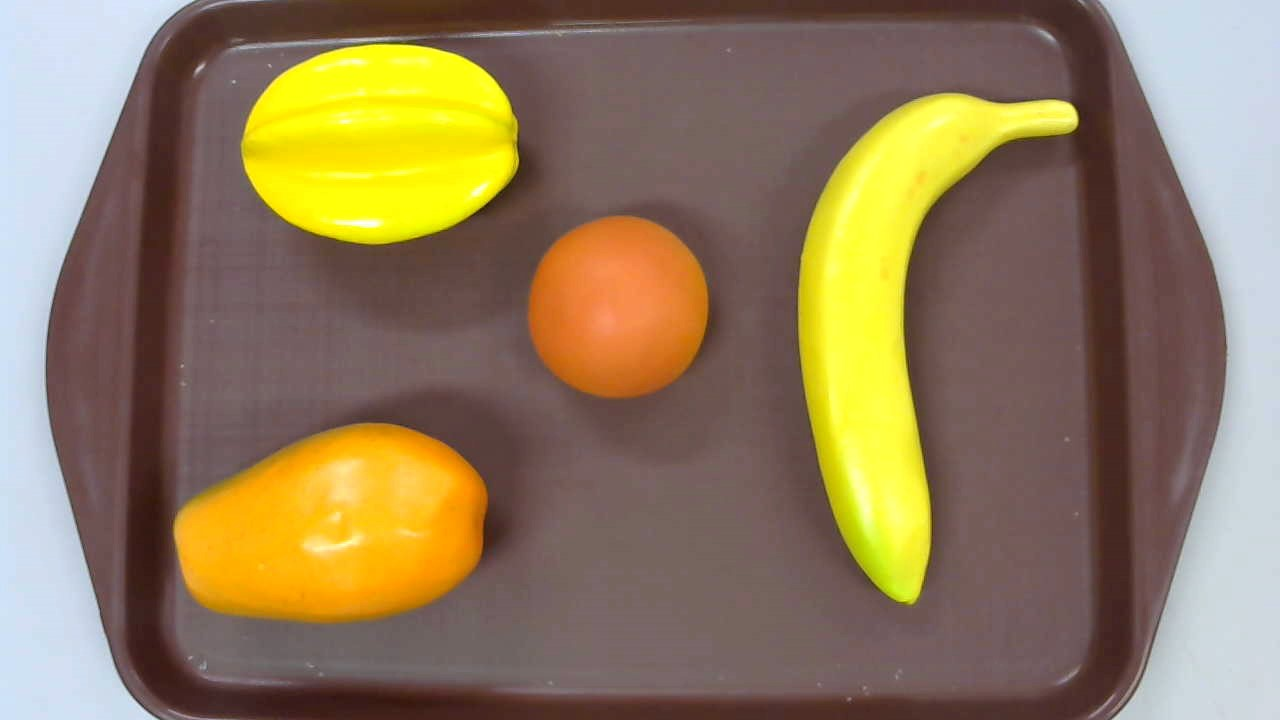banana: (797, 91, 1078, 605)
bun: (528, 211, 708, 400)
papya: (173, 423, 490, 624)
star fruit: (240, 44, 518, 246)
